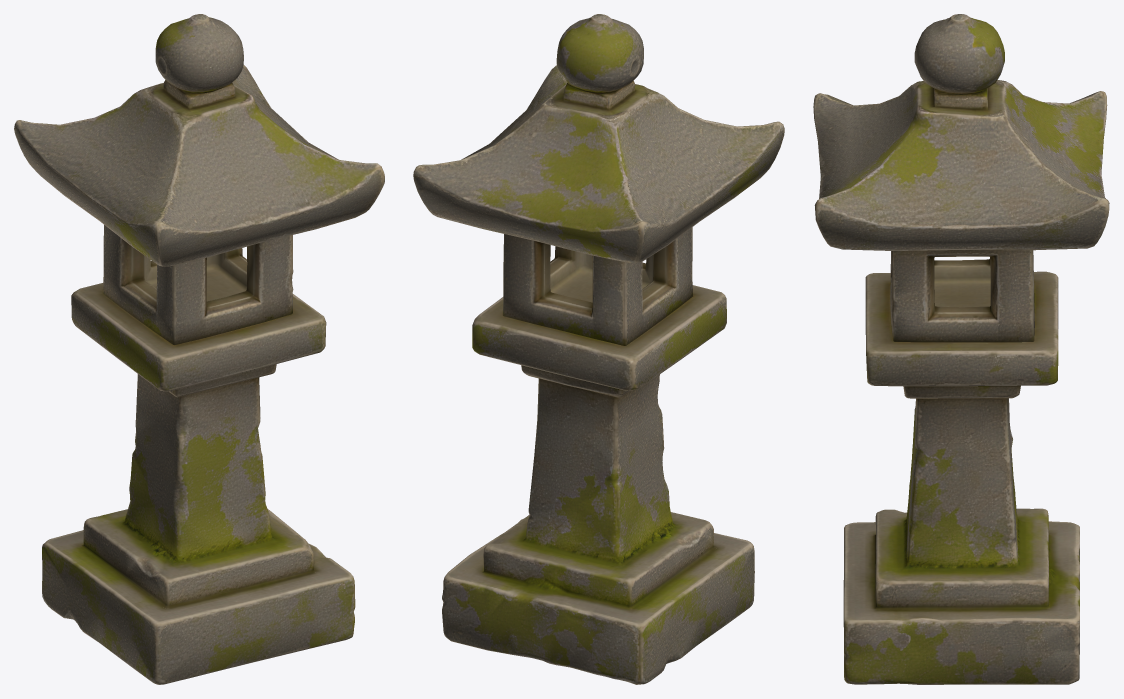
The model's file is stone_lantern.glb.
3 renders of one model, left to right at view 1: azimuth 30°, elevation 25°; view 2: azimuth 150°, elevation 25°; view 3: azimuth 270°, elevation 25°, orthographic. The views are drawn at different scales.
Parts seen in each view (by area): view 1: tripo_node_1e298af8-52e6-4471-8b53-665848563e1d; view 2: tripo_node_1e298af8-52e6-4471-8b53-665848563e1d; view 3: tripo_node_1e298af8-52e6-4471-8b53-665848563e1d.
Boxes of the visible parts, bbox=[...] form: tripo_node_1e298af8-52e6-4471-8b53-665848563e1d: bbox=[14, 14, 384, 684]; tripo_node_1e298af8-52e6-4471-8b53-665848563e1d: bbox=[413, 14, 784, 684]; tripo_node_1e298af8-52e6-4471-8b53-665848563e1d: bbox=[813, 14, 1109, 684].
Size of the model in its own units: 0.3979 by 0.9995 by 0.4321.
1 material, 1 textured.
